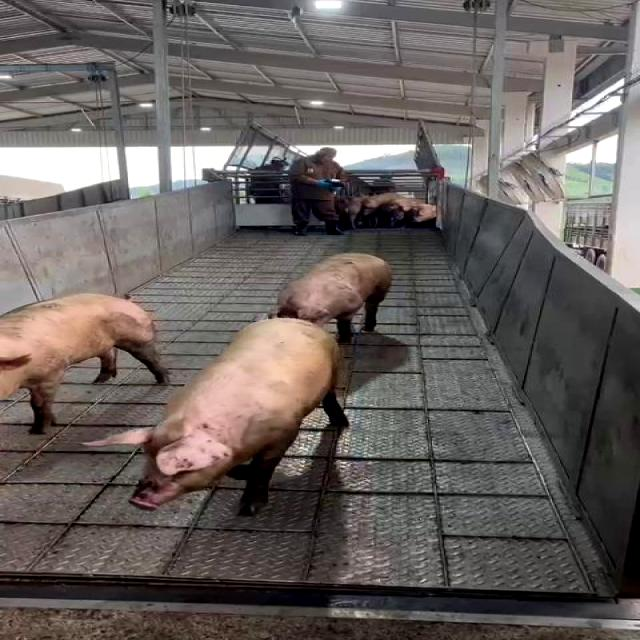pig: (85, 318, 348, 514), (89, 318, 347, 514), (1, 294, 167, 432), (276, 254, 391, 341)
